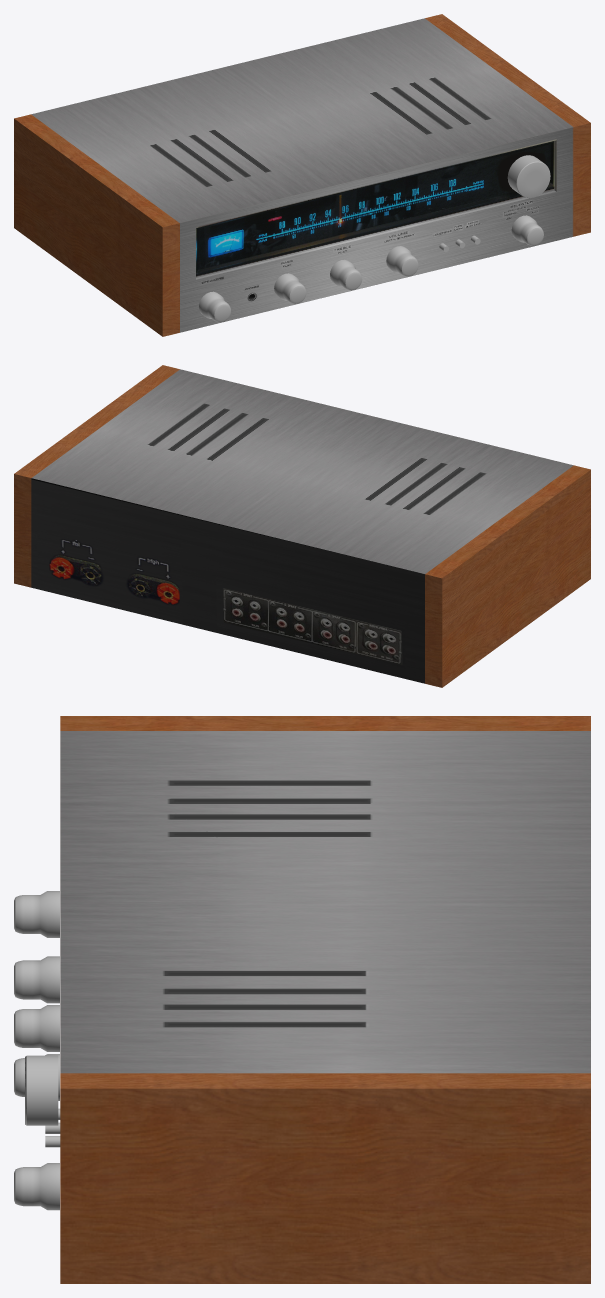
The picture shows the model from 3 angles, top to bottom: view 1: azimuth 30°, elevation 25°; view 2: azimuth 150°, elevation 25°; view 3: azimuth 270°, elevation 25°; orthographic projection. The views are drawn at different scales.
Parts seen in each view (by area): view 1: Stereo_Receiver, TunerKnob, Knob_04, Knob_05, Knob_02, Knob_03, Knob_01; view 2: Stereo_Receiver; view 3: Stereo_Receiver, TunerKnob, Knob_02, Knob_05, Knob_03, Knob_01.
Part boxes in pixels (<box>): Stereo_Receiver: <box>14,14,590,336</box>; TunerKnob: <box>507,155,550,198</box>; Knob_04: <box>386,246,418,276</box>; Knob_05: <box>511,215,543,245</box>; Knob_02: <box>274,273,306,303</box>; Knob_03: <box>330,259,362,290</box>; Knob_01: <box>199,291,230,322</box>; Stereo_Receiver: <box>14,365,590,687</box>; Stereo_Receiver: <box>60,716,590,1283</box>; TunerKnob: <box>25,1055,58,1125</box>; Knob_02: <box>14,956,59,1003</box>; Knob_05: <box>14,1163,59,1210</box>; Knob_03: <box>14,1005,59,1051</box>; Knob_01: <box>14,891,59,937</box>.
Bounding box in the file's own units: 1.84 × 0.4507 × 1.21.
2 materials, 1 textured.
